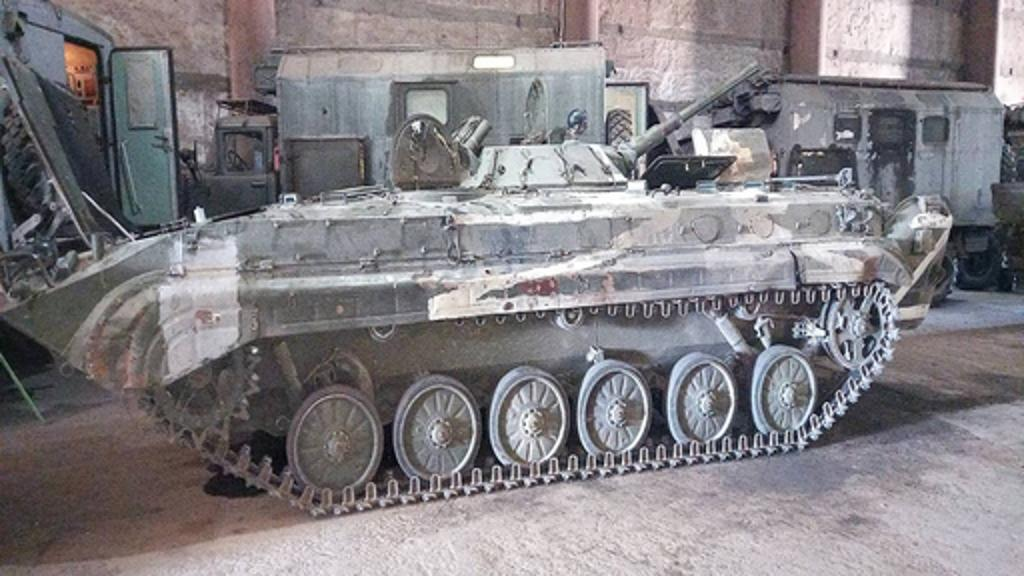APC-IFV: (0, 60, 950, 502)
